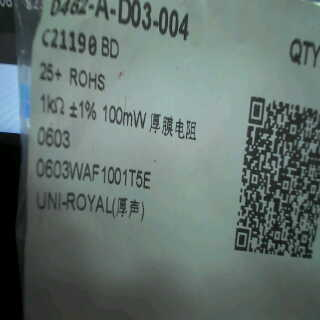1kR: (40, 92, 70, 117)
